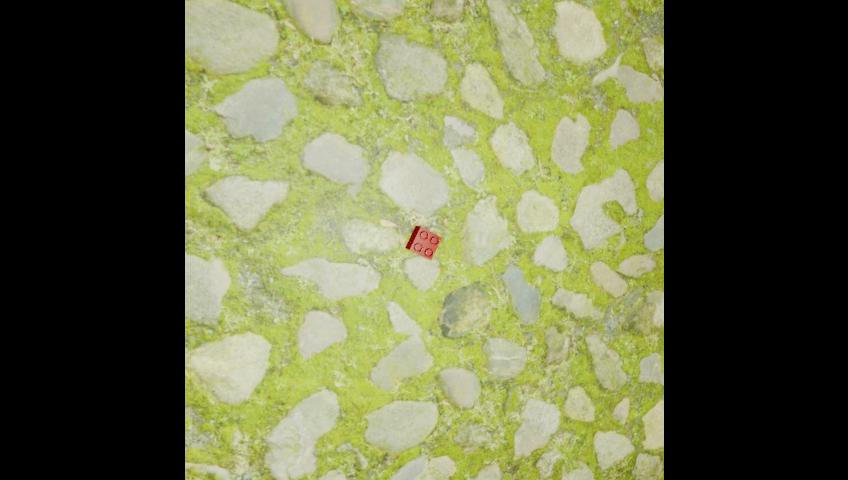2x2_red: (405, 226, 442, 259)
